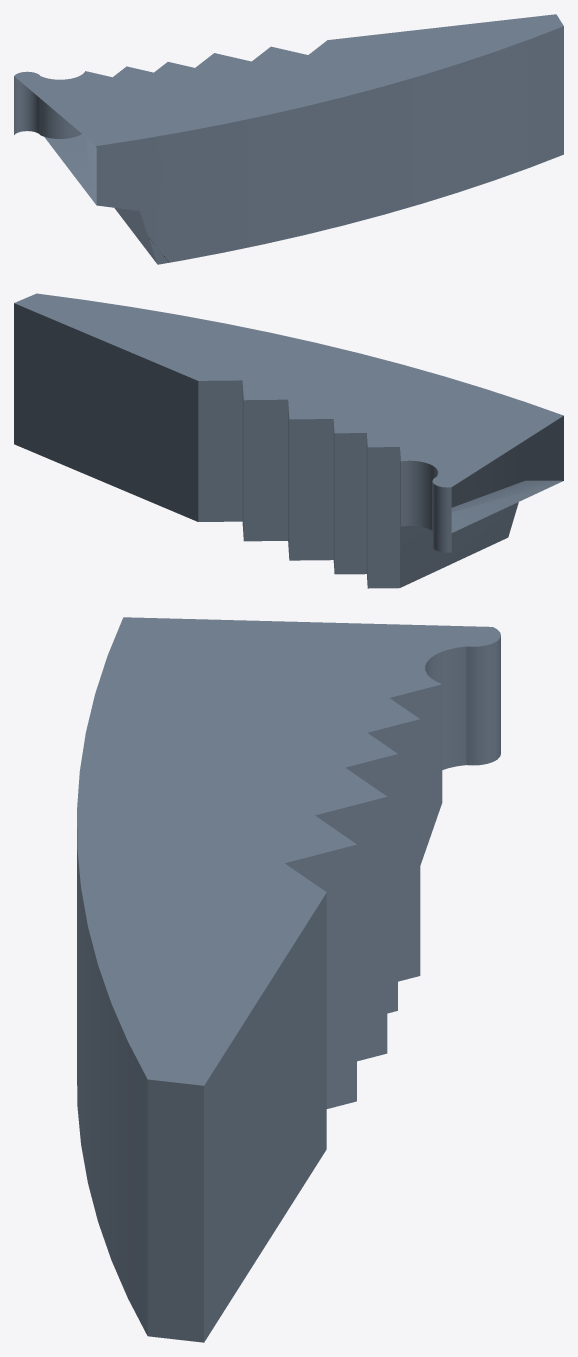
File: original-2.obj
3 views of the same model, one above another, from view 1: azimuth 30°, elevation 25°; view 2: azimuth 150°, elevation 25°; view 3: azimuth 270°, elevation 25° (orthographic). The views are drawn at different scales.
Parts seen in each view (by area): view 1: Group2/mesh1/mesh1-geometry#mesh1-geometry; view 2: Group2/mesh1/mesh1-geometry#mesh1-geometry; view 3: Group2/mesh1/mesh1-geometry#mesh1-geometry.
Boxes of the visible parts, left/top/right/bottom form: Group2/mesh1/mesh1-geometry#mesh1-geometry: left=14, top=14, right=563, bottom=264; Group2/mesh1/mesh1-geometry#mesh1-geometry: left=14, top=293, right=563, bottom=588; Group2/mesh1/mesh1-geometry#mesh1-geometry: left=77, top=617, right=500, bottom=1342.
Bounding box in the file's own units: 0.333 × 0.0851 × 0.1274.
